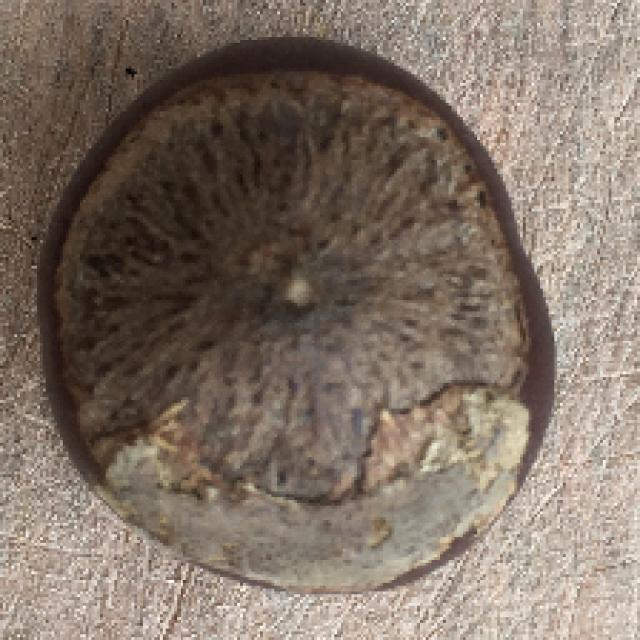damagedHazelnut: (46, 27, 556, 594)
